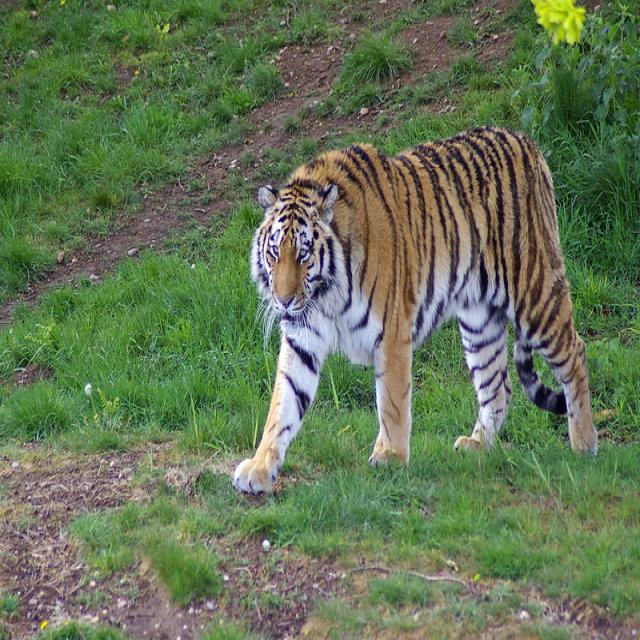Tiger: (226, 113, 604, 502)
